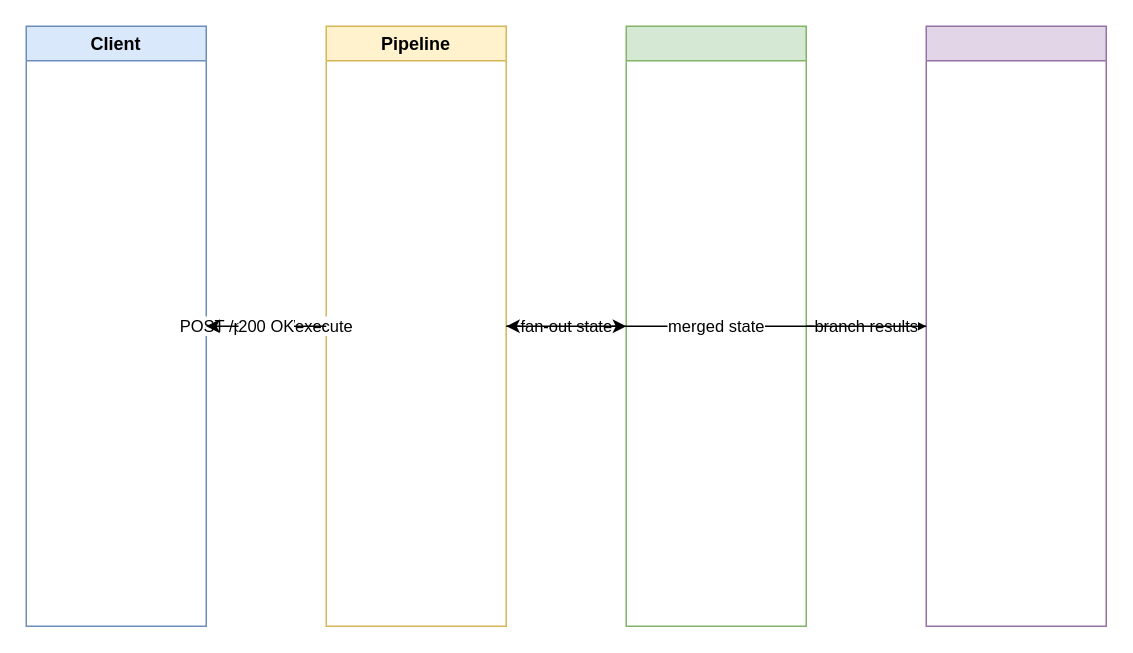
Image size: 1133x653. Some labels were removed from this diagram. Each missing label, with the centre of its shape:
"FanOut" belongs at point (715, 325).
"Join" belongs at point (1015, 325).
